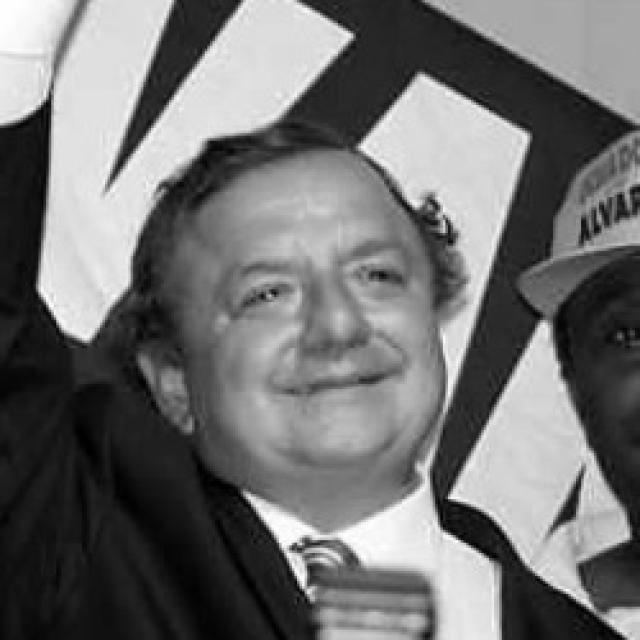real: (176, 146, 450, 488), (194, 233, 422, 326)
